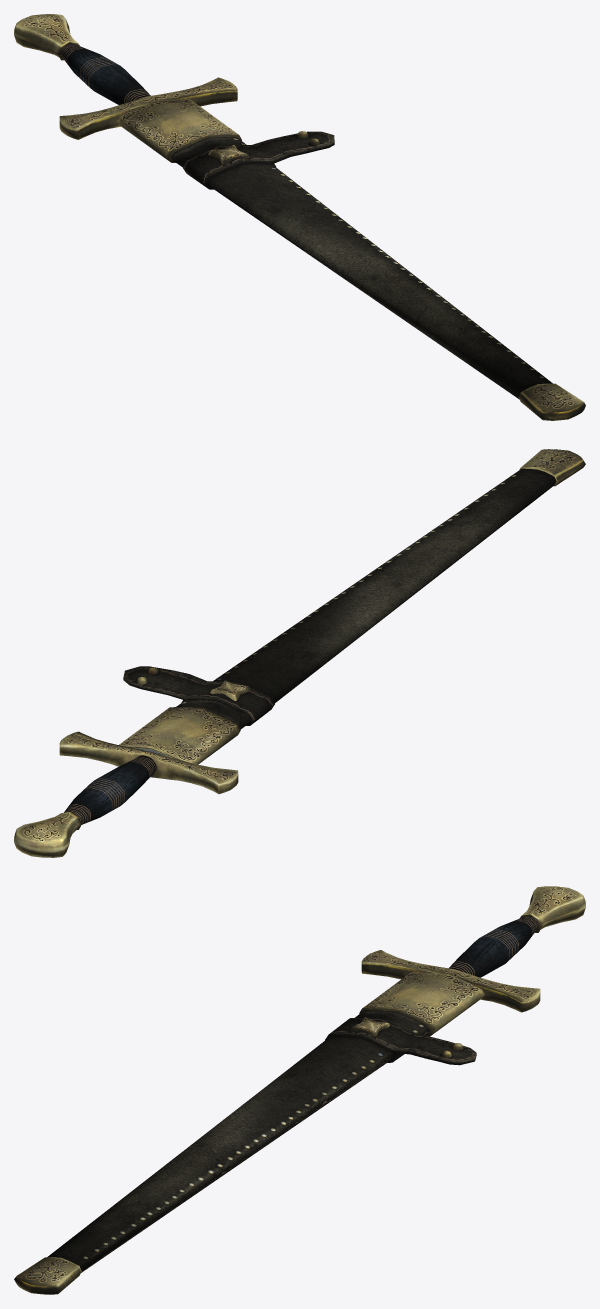
File: 1H_sword_A_with_scabbard.FBX
The picture shows the model from 3 angles, top to bottom: view 1: azimuth 30°, elevation 25°; view 2: azimuth 150°, elevation 25°; view 3: azimuth 330°, elevation 25°; orthographic projection.
Parts seen in each view (by area): view 1: 1H_Sword_A_scabbard, 1H_Sword_A; view 2: 1H_Sword_A_scabbard, 1H_Sword_A; view 3: 1H_Sword_A_scabbard, 1H_Sword_A.
Boxes of the visible parts, x1,y1,x2,y2 form: 1H_Sword_A_scabbard: (116, 99, 585, 420); 1H_Sword_A: (14, 14, 237, 139); 1H_Sword_A_scabbard: (119, 449, 585, 764); 1H_Sword_A: (14, 731, 238, 857); 1H_Sword_A_scabbard: (14, 972, 484, 1294); 1H_Sword_A: (361, 886, 585, 1012).
Size of the model in its own units: 23.04 by 3.64 by 114.
